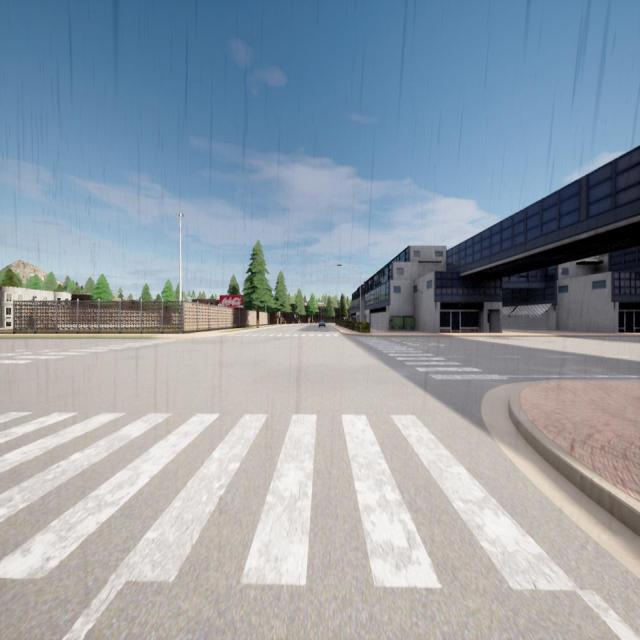Vehicle: (318, 319, 326, 328)
